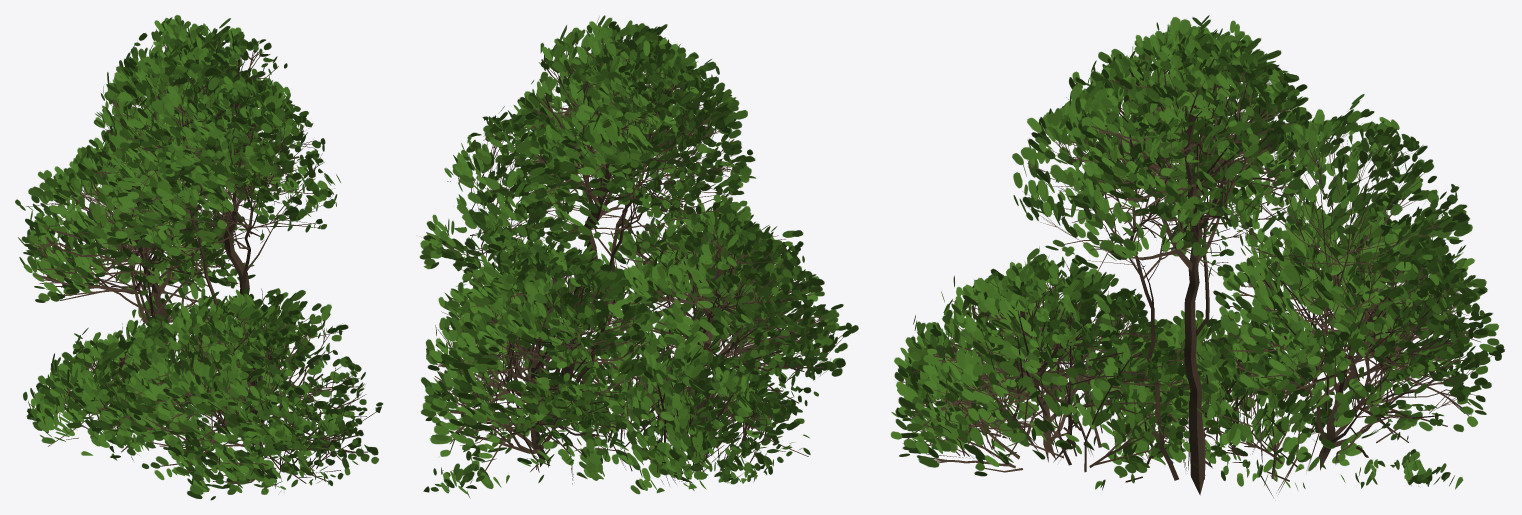
The picture shows the model from 3 angles, left to right: view 1: azimuth 30°, elevation 25°; view 2: azimuth 150°, elevation 25°; view 3: azimuth 270°, elevation 25°; orthographic projection. The views are drawn at different scales.
Parts seen in each view (by area): view 1: oak 01.001_trunk_Mat.001_0.323; view 2: oak 01.001_trunk_Mat.001_0.323; view 3: oak 01.001_trunk_Mat.001_0.323.
Boxes of the visible parts, bbox=[...] form: oak 01.001_trunk_Mat.001_0.323: bbox=[15, 15, 383, 500]; oak 01.001_trunk_Mat.001_0.323: bbox=[419, 15, 858, 498]; oak 01.001_trunk_Mat.001_0.323: bbox=[890, 15, 1504, 497].
Bounding box in the file's own units: 2.74 × 3.96 × 4.92.
2 materials, 1 textured.
